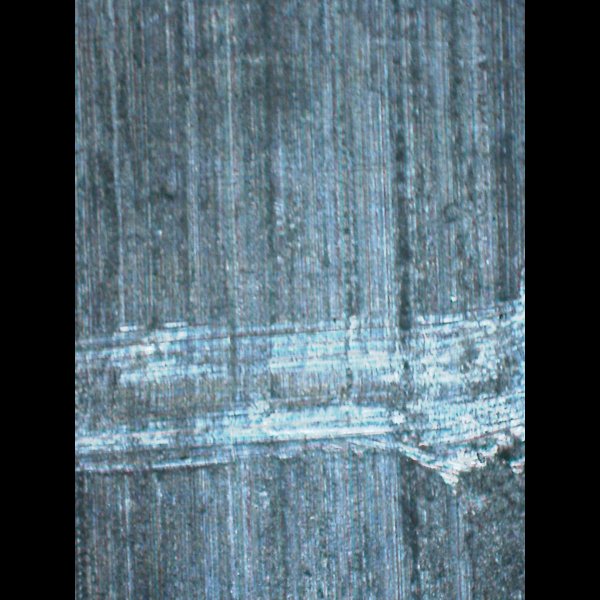d: (75, 280, 524, 501)
